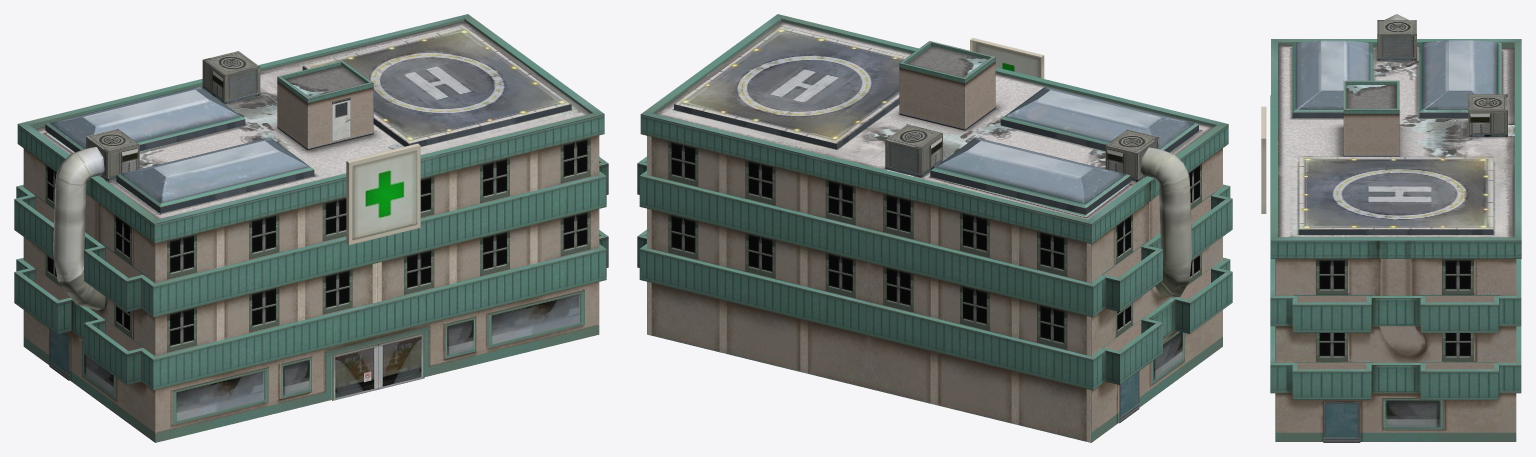
File: pharmacy.glb
The picture shows the model from 3 angles, left to right: view 1: azimuth 30°, elevation 25°; view 2: azimuth 150°, elevation 25°; view 3: azimuth 270°, elevation 25°; orthographic projection. The views are drawn at different scales.
Parts seen in each view (by area): view 1: LM_Clinic2; view 2: LM_Clinic2; view 3: LM_Clinic2.
Part boxes in pixels (left/top/right/bottom): LM_Clinic2: left=14, top=14, right=608, bottom=442; LM_Clinic2: left=637, top=14, right=1232, bottom=442; LM_Clinic2: left=1261, top=14, right=1521, bottom=442.
Bounding box in the file's own units: 3758 × 1951 × 1857.
Materials: 1 (1 with a texture image).
